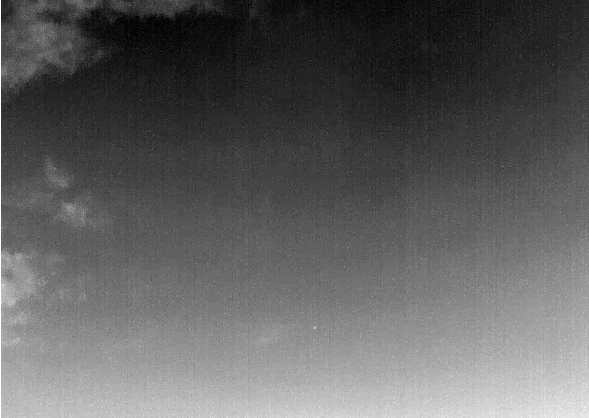dim target: (312, 325, 317, 330)
